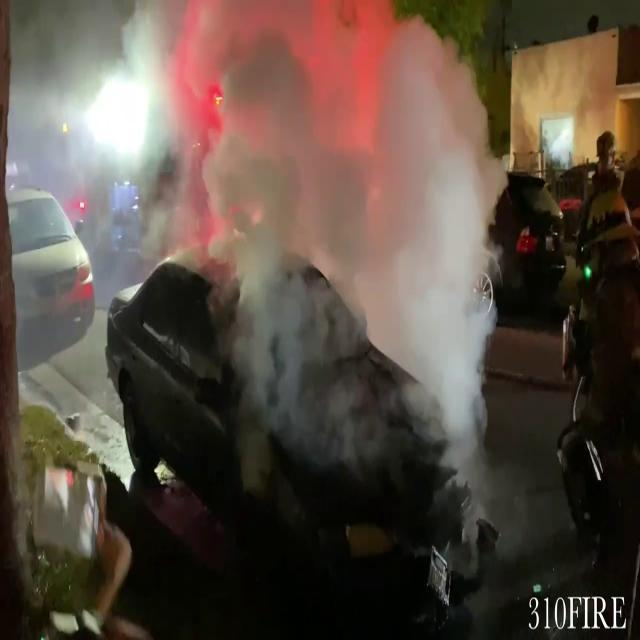Smoke: (115, 1, 505, 490)
